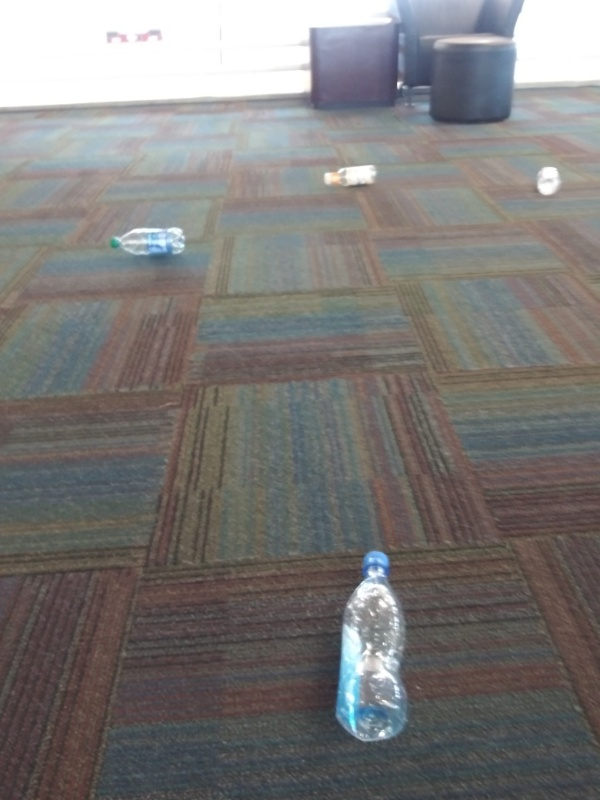bottle: (330, 548, 413, 744), (107, 223, 192, 263), (320, 161, 382, 189), (529, 163, 565, 200)
